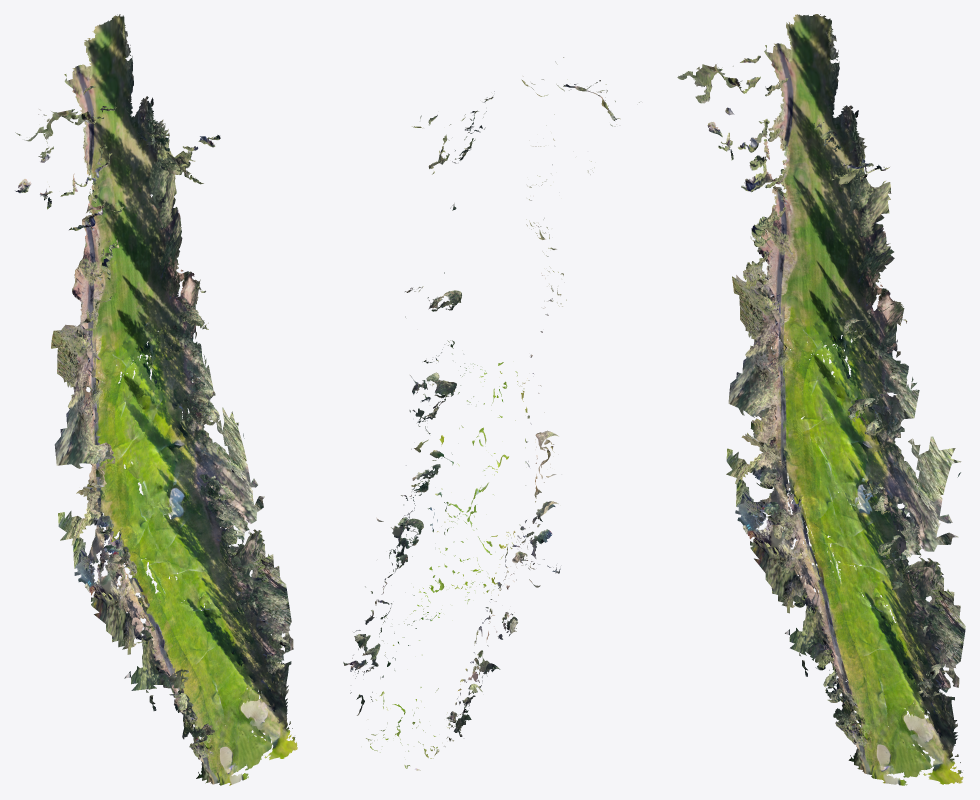
3 renders of one model, left to right at view 1: azimuth 30°, elevation 25°; view 2: azimuth 150°, elevation 25°; view 3: azimuth 330°, elevation 25°, orthographic. The views are drawn at different scales.
Bounding box in the file's own units: 146 × 374 × 41.71.
Materials: 27 (27 with a texture image).
